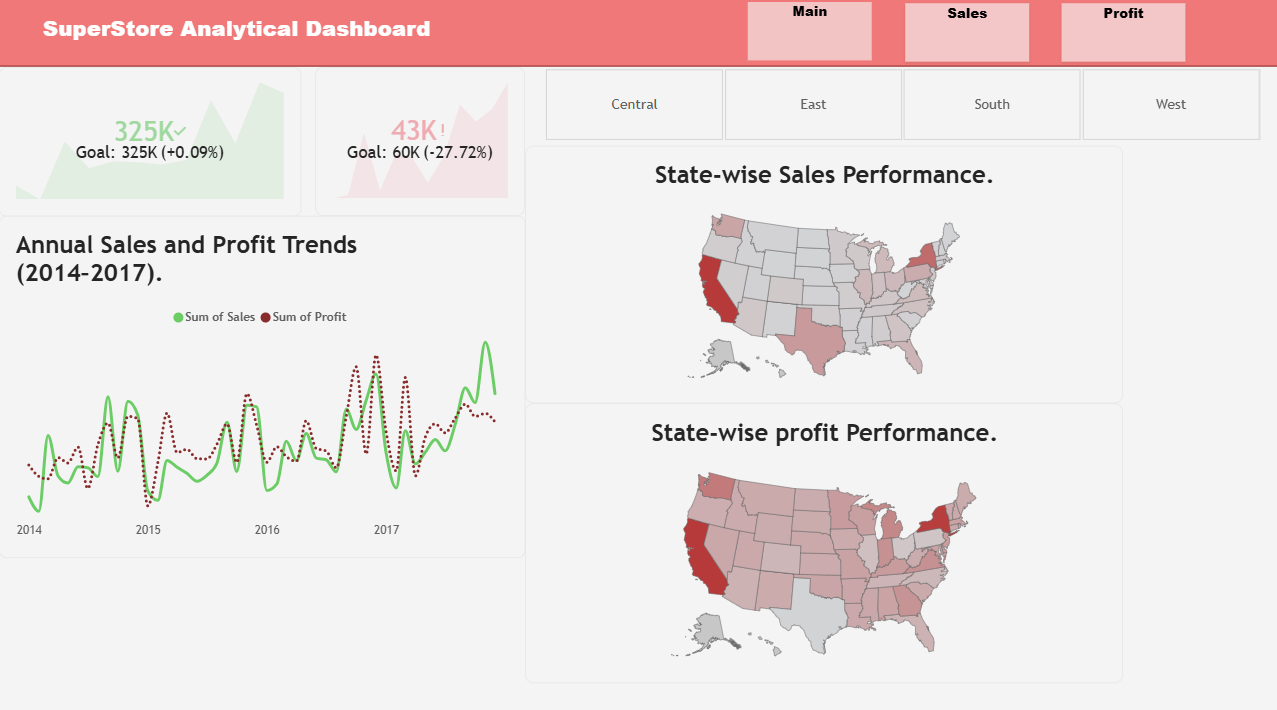

The dashboard page shown, as its layout file describes it:
{"tool":"powerbi","page":{"name":"Main","canvas":[1280,720],"ordinal":8},"visuals":[{"type":"shape","box":[0,0,1280,69.6],"z":0},{"type":"actionButton","title":"Sales","box":[906.8,6.2,124.4,58.5],"z":1000},{"type":"actionButton","title":"Profit","box":[1062.3,6.2,124.4,58.5],"z":2000},{"type":"actionButton","title":"Main","box":[748.9,5,124.4,58.5],"z":3000},{"type":"textbox","box":[0,16.2,475.2,53.5],"z":4000},{"type":"kpi","fields":{"Goal":["Orders.Target Sales"],"Indicator":["Sum(Orders.Sales)"],"TrendLine":["Orders.Order Date.Variation.Date Hierarchy.Month"]},"box":[0,69.7,302.3,149.3],"z":5000},{"type":"lineChart","title":"Annual Sales and Profit Trends (2014–2017).","fields":{"Category":["Orders.Order Date.Variation.Date Hierarchy.Year","Orders.Order Date.Variation.Date Hierarchy.Quarter","Orders.Order Date.Variation.Date Hierarchy.Month"],"Y":["Sum(Orders.Sales)"],"Y2":["Sum(Orders.Profit)"]},"box":[0,218.4,526.2,342.1],"z":6000},{"type":"kpi","fields":{"Goal":["Orders.Target Profit"],"Indicator":["Sum(Orders.Profit)"],"TrendLine":["Orders.Order Date.Variation.Date Hierarchy.Month"]},"box":[316.6,69.9,209.8,148.5],"z":7000},{"type":"shapeMap","title":"State-wise profit Performance.","fields":{"Category":["Orders.State"],"Value":["Sum(Orders.Profit)"]},"box":[526.4,406.1,597.5,279.8],"z":8000},{"type":"shapeMap","title":"State-wise Sales Performance.","fields":{"Category":["Orders.State"],"Value":["Sum(Orders.Sales)"]},"box":[526.4,148.5,597.5,257.7],"z":9000},{"type":"slicer","fields":{"Values":["Orders.Region"]},"box":[526.4,69.9,753.4,74.8],"z":10000}]}

Visuals, with their boxes in screenshot pixels (x1, y1, x2, y2), scaled from the page's 1280x720 canvas onto the 1277x710 screenshot:
shape: <bbox>0, 0, 1276, 69</bbox>
"Sales" actionButton: <bbox>905, 6, 1029, 64</bbox>
"Profit" actionButton: <bbox>1060, 6, 1184, 64</bbox>
"Main" actionButton: <bbox>747, 5, 871, 63</bbox>
textbox: <bbox>0, 16, 474, 69</bbox>
kpi - Orders.Target Sales x Sum(Orders.Sales): <bbox>0, 69, 302, 216</bbox>
"Annual Sales and Profit Trends (2014–2017)." lineChart: <bbox>0, 215, 525, 553</bbox>
kpi - Orders.Target Profit x Sum(Orders.Profit): <bbox>316, 69, 525, 215</bbox>
"State-wise profit Performance." shapeMap: <bbox>525, 400, 1121, 676</bbox>
"State-wise Sales Performance." shapeMap: <bbox>525, 146, 1121, 401</bbox>
slicer - Orders.Region: <bbox>525, 69, 1276, 143</bbox>
